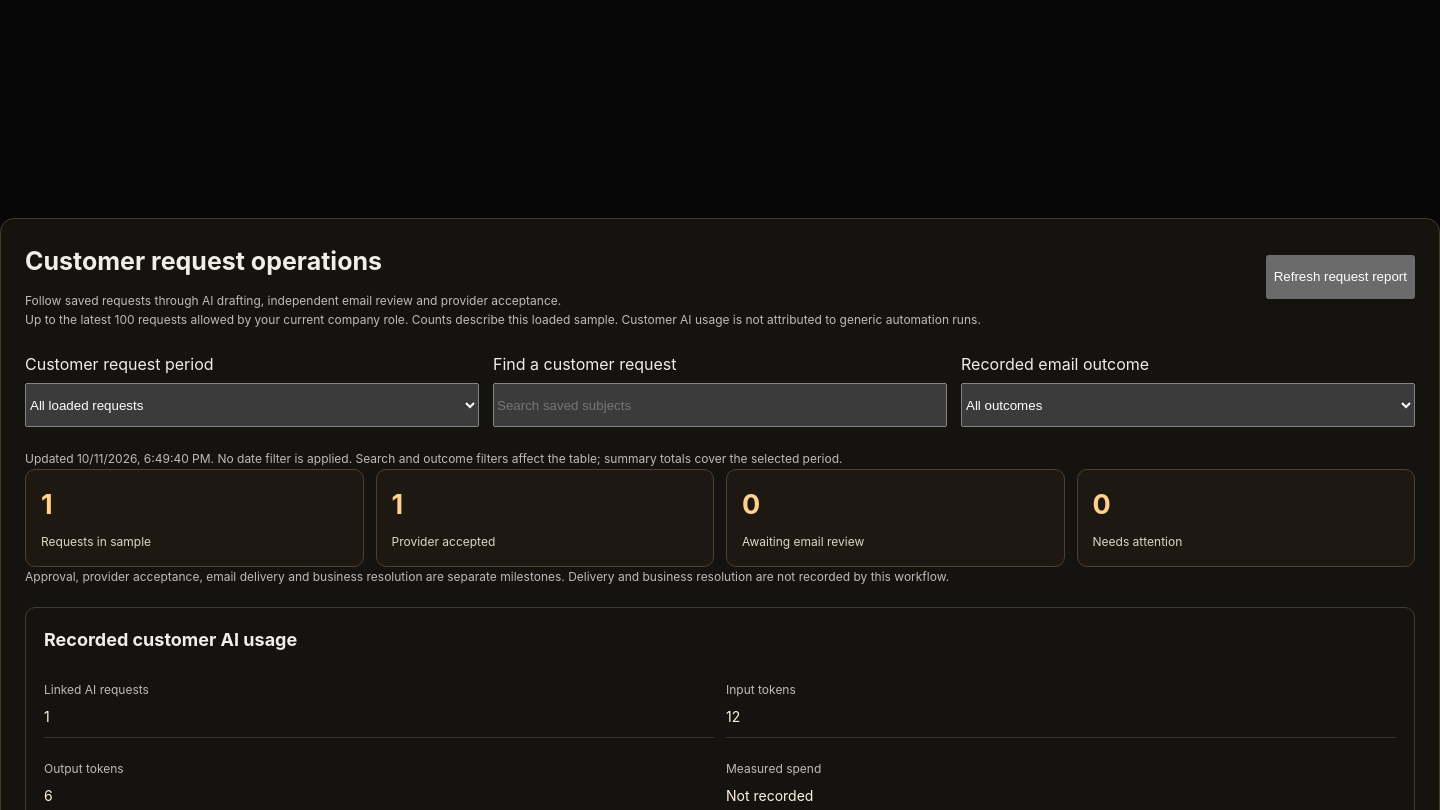
Test: read-only operations workspace › handles a source expiring after load without throwing or exposing its references
(page scrolled)
Step 1. Select "Last 7 UTC days" in the dropdown labelled "Customer request period" → (252,405), box [25, 383, 479, 427]
(page scrolled)
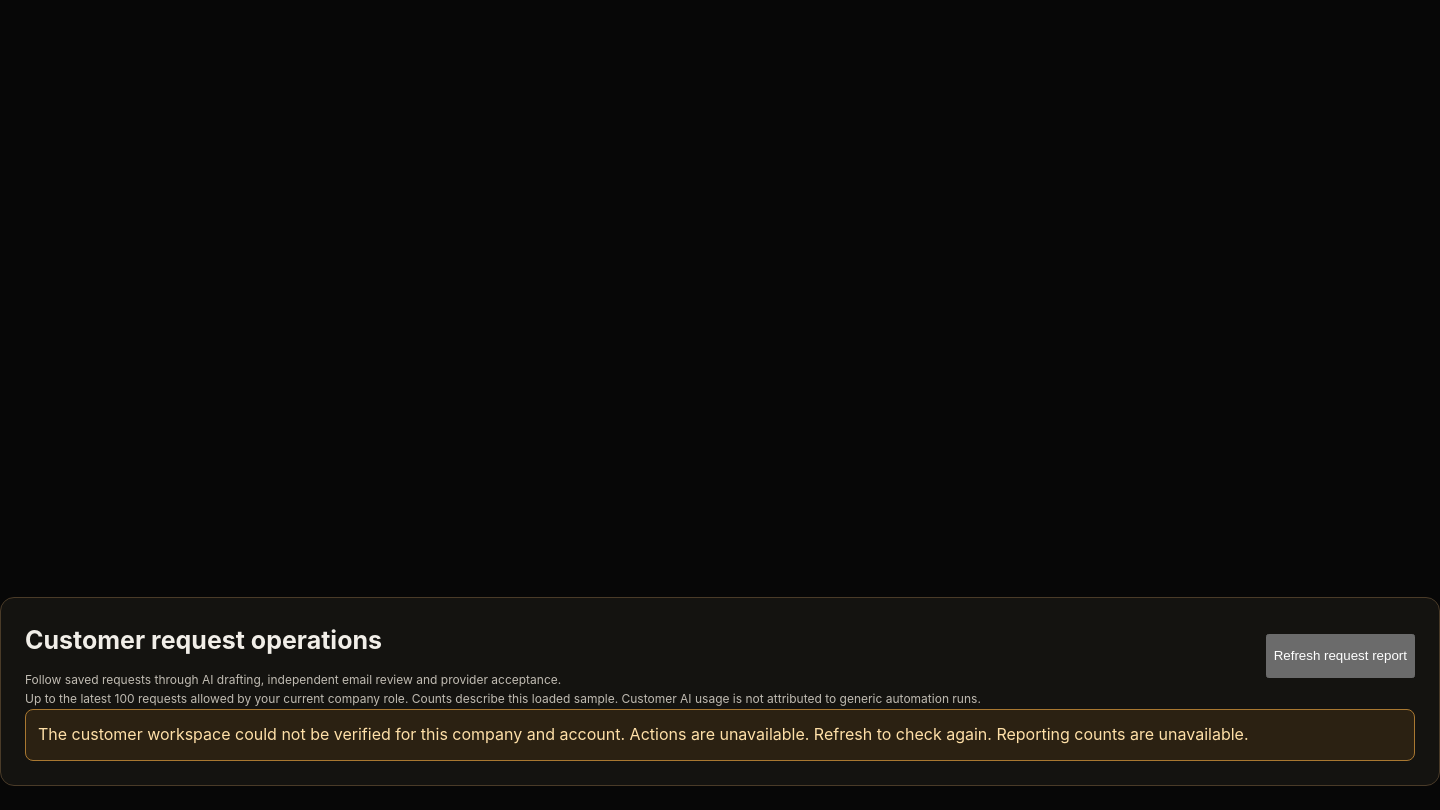
Expected: the message shows "could not be verified", [38, 724, 992, 744]
